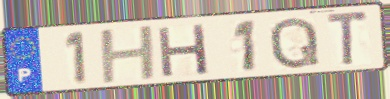1: (228, 18, 258, 74), (63, 29, 89, 86)
H: (97, 23, 160, 86), (155, 22, 211, 80)
Q: (268, 15, 322, 71)
T: (324, 9, 371, 69)
